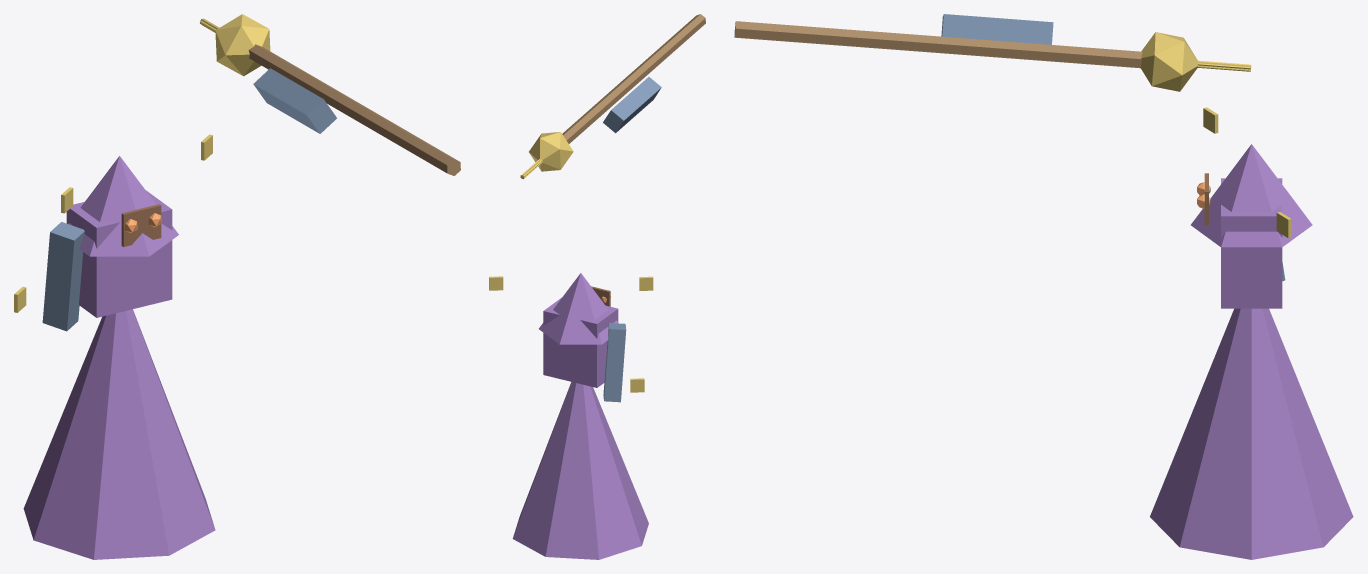
File: npcpose_stormcaller_attack_02.glb
3 renders of one model, left to right at view 1: azimuth 30°, elevation 25°; view 2: azimuth 150°, elevation 25°; view 3: azimuth 270°, elevation 25°, orthographic. The views are drawn at different scales.
Parts seen in each view (by area): view 1: npcpose; view 2: npcpose; view 3: npcpose.
Boxes of the visible parts, box(x1,y1,x2,y2) form: npcpose: box(14, 14, 460, 559); npcpose: box(489, 14, 705, 559); npcpose: box(734, 14, 1353, 559).
Bounding box in the file's own units: 1.21 × 2.91 × 3.04.
